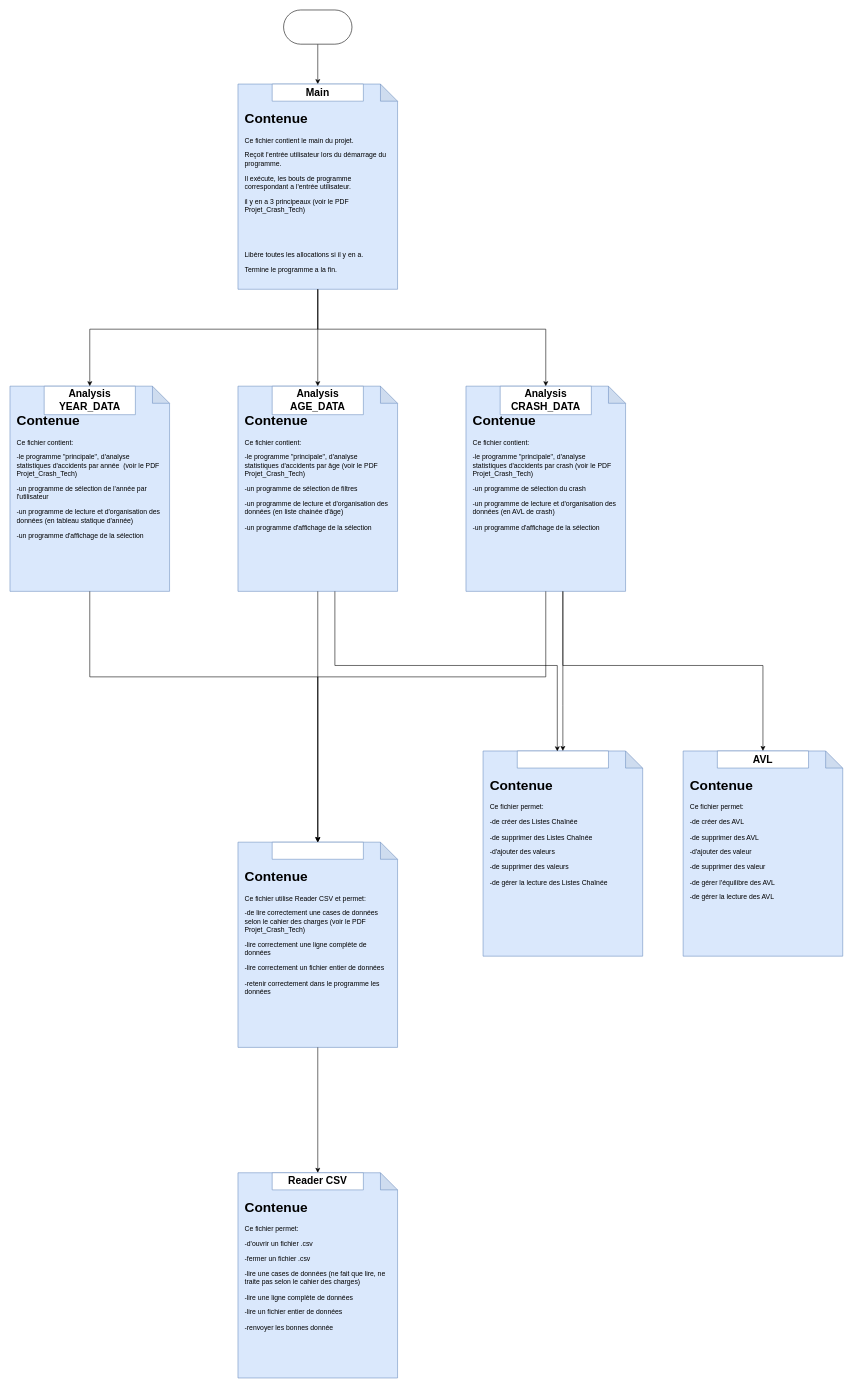
The diagram is 853 pixels wide and 1390 high, and some of its shapes have lost their labels. The shapes that lost their labels are listed below. From the top down, each one's centre as x and y in pixels, then its label:
the point at 317,26: Démarrage
the point at 562,759: Liste Chaînée
the point at 317,850: Crash Reader
